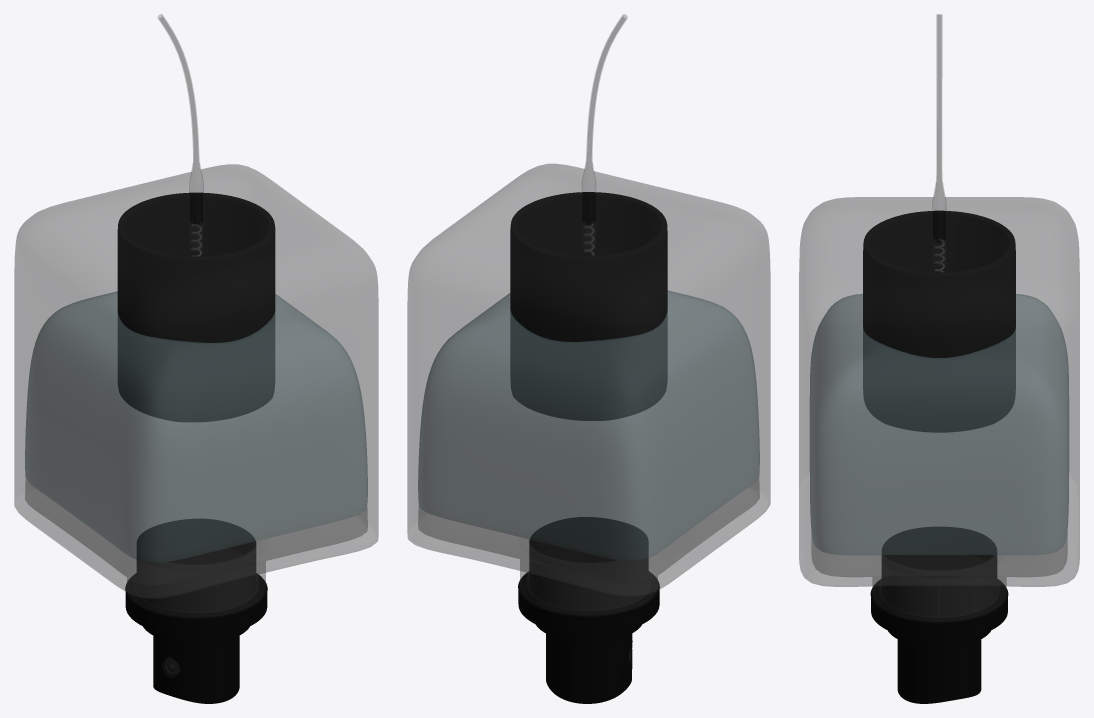
File: rectangular_basic.glb
The picture shows the model from 3 angles, left to right: view 1: azimuth 30°, elevation 25°; view 2: azimuth 150°, elevation 25°; view 3: azimuth 270°, elevation 25°; orthographic projection. The views are drawn at different scales.
Parts seen in each view (by area): view 1: Bottle, Liquid, Details, Cap; view 2: Bottle, Liquid, Details, Cap; view 3: Bottle, Liquid, Details, Cap.
Part boxes in pixels (x1=…): Bottle: x1=14, y1=164, x2=378, y2=617; Liquid: x1=25, y1=291, x2=367, y2=562; Details: x1=117, y1=192, x2=275, y2=703; Cap: x1=158, y1=14, x2=203, y2=250; Bottle: x1=407, y1=164, x2=770, y2=615; Liquid: x1=418, y1=290, x2=759, y2=560; Details: x1=510, y1=192, x2=667, y2=703; Cap: x1=582, y1=14, x2=627, y2=249; Bottle: x1=799, y1=197, x2=1079, y2=621; Liquid: x1=809, y1=294, x2=1069, y2=554; Details: x1=863, y1=210, x2=1015, y2=703; Cap: x1=932, y1=14, x2=946, y2=266.
Size of what is drawn, in the model's own units: 0.3856 by 1 by 0.3856.
